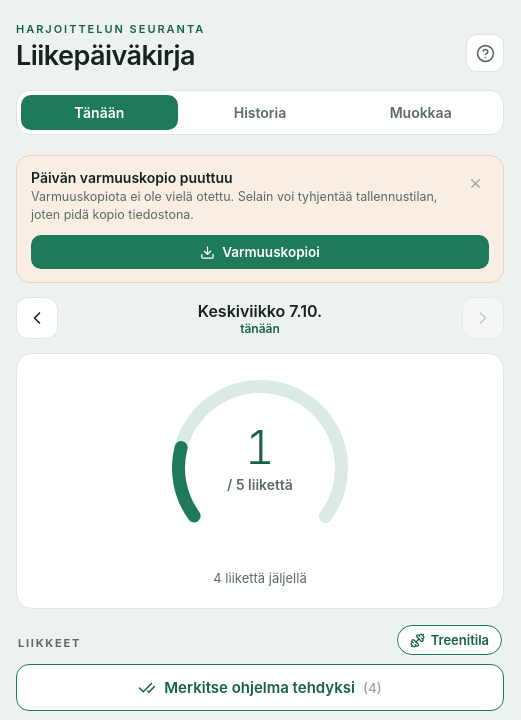
Test: Kaikki over a long history › shows the latest two years, not the earliest
What coordinates should you click on to do the following:
click the button "Historia"
I would click on:
 (260, 112)
Its box is [182,95,338,130].
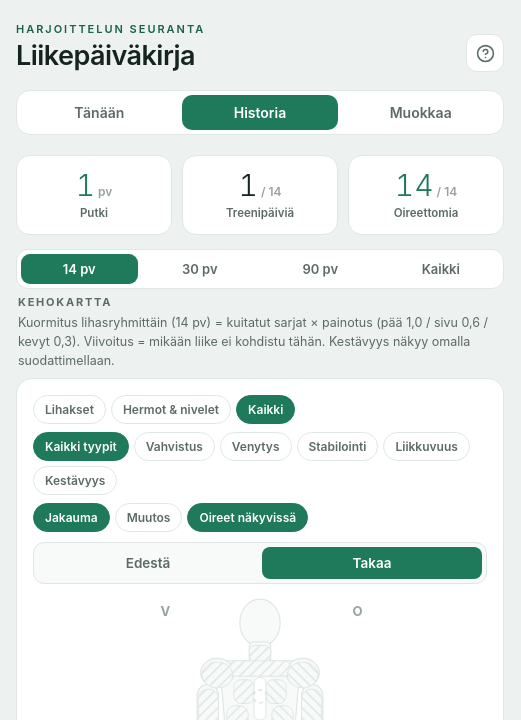
Expected: the 1st button "Kaikki" is shown
What coordinates should you click on to do the following:
click the 1st button "Kaikki"
I would click on:
 (441, 269)
Its box is [382,254,499,284].
(page scrolled)
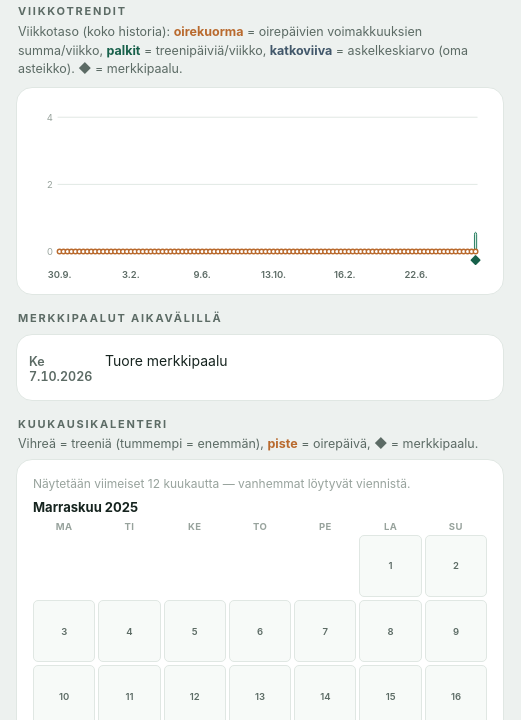
Expected: the text "Tuore merkkipaalu" is shown, [105,352,228,369]
Expected: the text "Viikkotrendit" is shown, [18,4,127,18]
